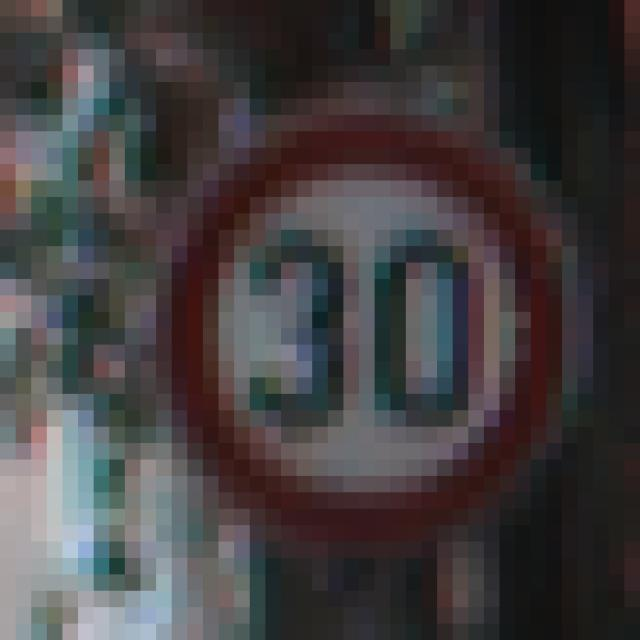Speed Limit -30-: (86, 90, 554, 534)
